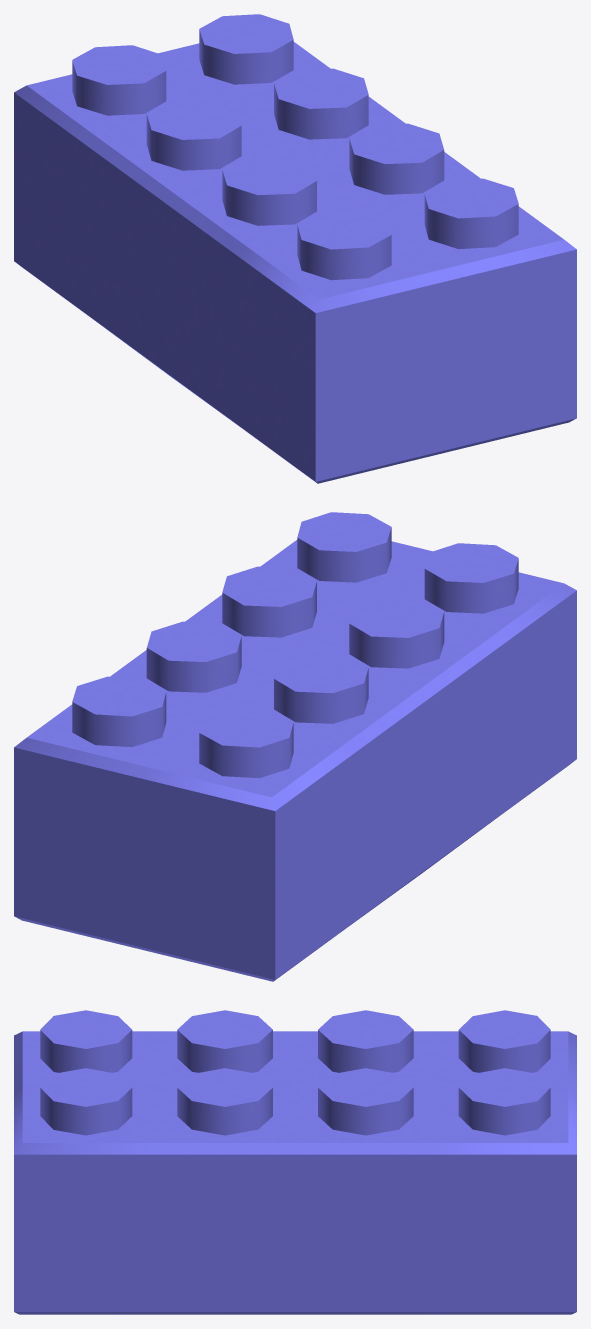
File: SM_Lggo_8.fbx
3 views of the same model, one above another, from view 1: azimuth 30°, elevation 25°; view 2: azimuth 150°, elevation 25°; view 3: azimuth 270°, elevation 25° (orthographic). The views are drawn at different scales.
Parts seen in each view (by area): view 1: SM_Lggo_8; view 2: SM_Lggo_8; view 3: SM_Lggo_8.
Boxes of the visible parts, box(x1,y1,x2,y2) form: SM_Lggo_8: box(14, 14, 576, 483); SM_Lggo_8: box(14, 512, 576, 981); SM_Lggo_8: box(14, 1010, 576, 1314).
Size of the model in its own units: 3 by 2.34 by 6.
Materials: 1 (1 with a texture image).
